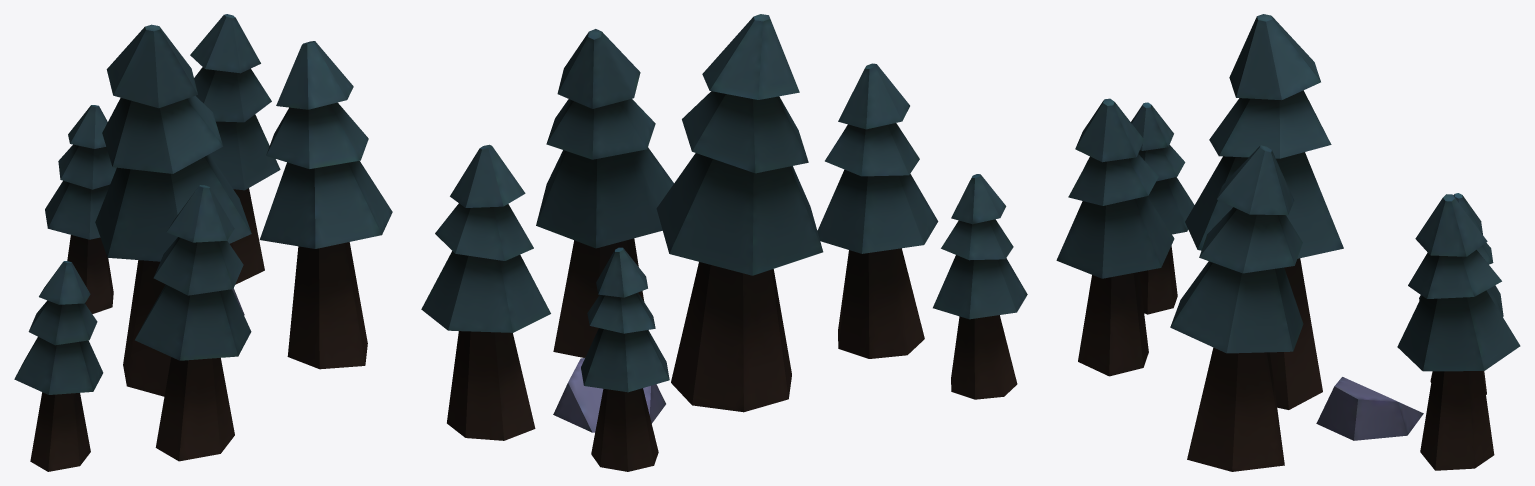
File: tile_wood_4_lod2.fbx
The picture shows the model from 3 angles, left to right: view 1: azimuth 30°, elevation 25°; view 2: azimuth 150°, elevation 25°; view 3: azimuth 270°, elevation 25°; orthographic projection. The views are drawn at different scales.
Parts seen in each view (by area): view 1: wood_4_lod2; view 2: wood_4_lod2; view 3: wood_4_lod2.
Part boxes in pixels (x1,y1,x2,y2): wood_4_lod2: (14, 14, 392, 471); wood_4_lod2: (421, 14, 1027, 471); wood_4_lod2: (1056, 14, 1520, 471).
Size of the model in its own units: 0.0553 by 0.0454 by 0.0536.
